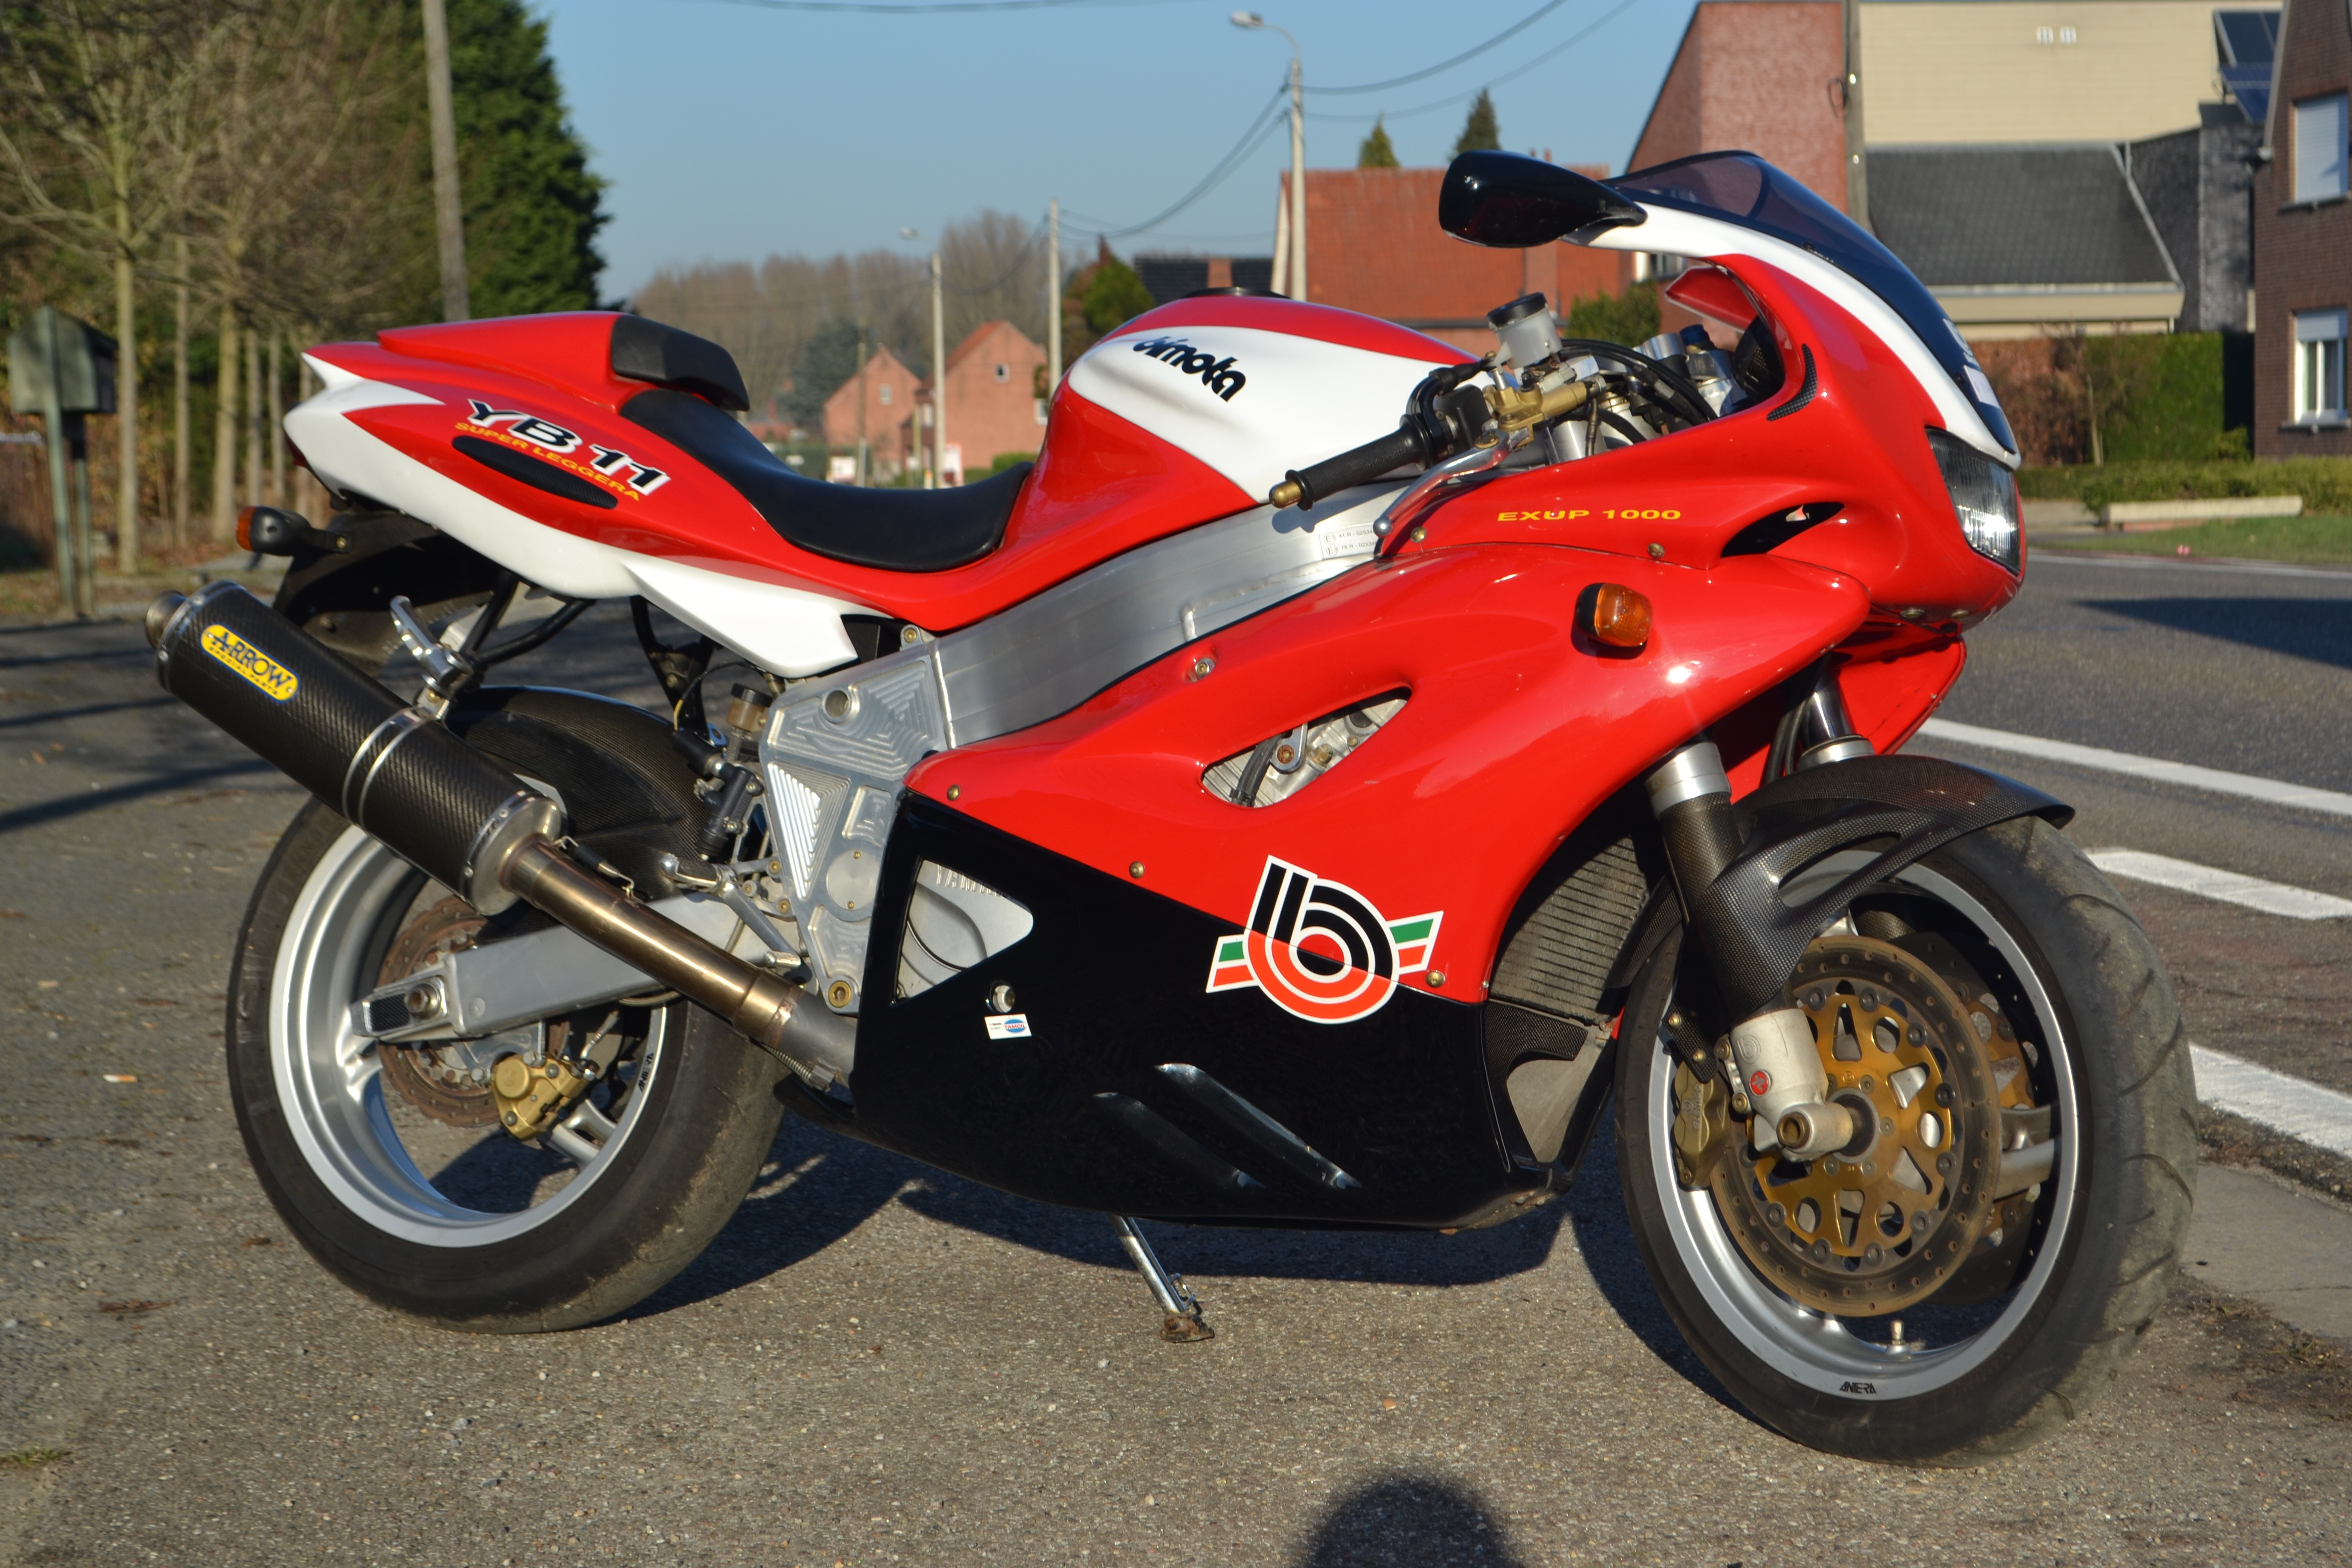motorbike: (166, 149, 2212, 1468)
